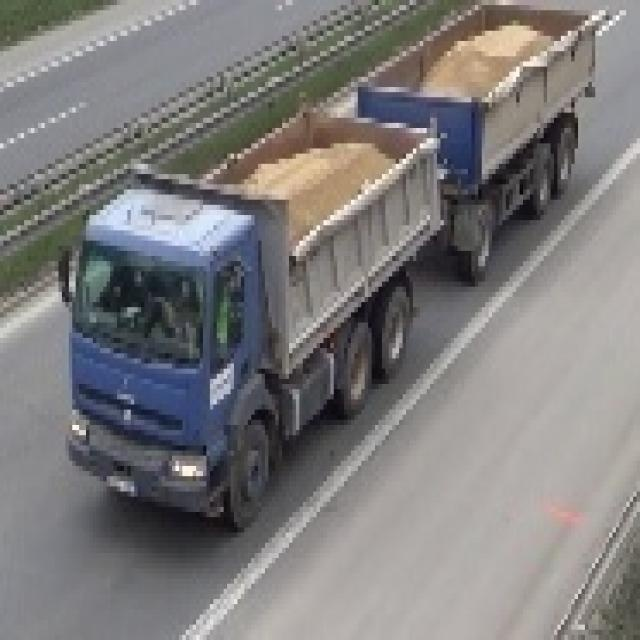Truck: (55, 0, 592, 527)
